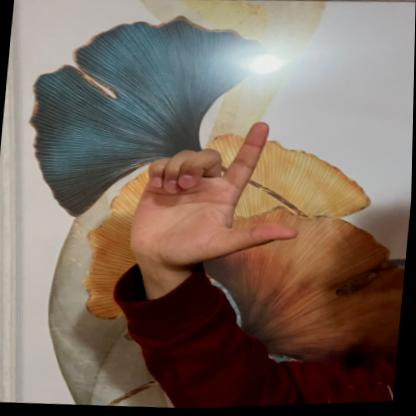L: (126, 112, 313, 279)
